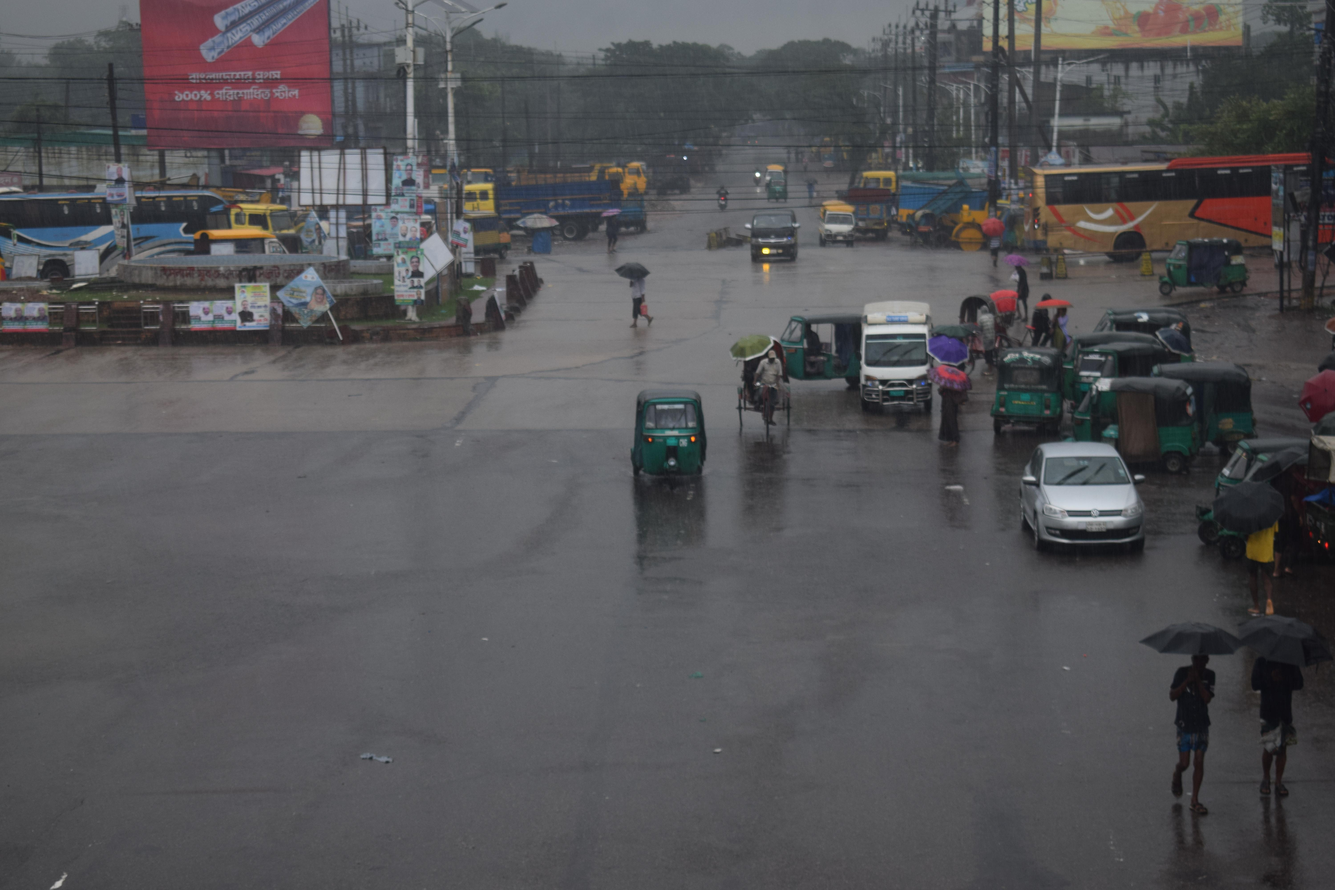Bus: (1007, 134, 1335, 279), (0, 164, 246, 312)
Car: (1000, 420, 1164, 576), (712, 316, 816, 483), (841, 293, 953, 435), (734, 195, 815, 291), (808, 179, 879, 264)
Truck: (444, 157, 630, 250), (217, 182, 306, 263)
